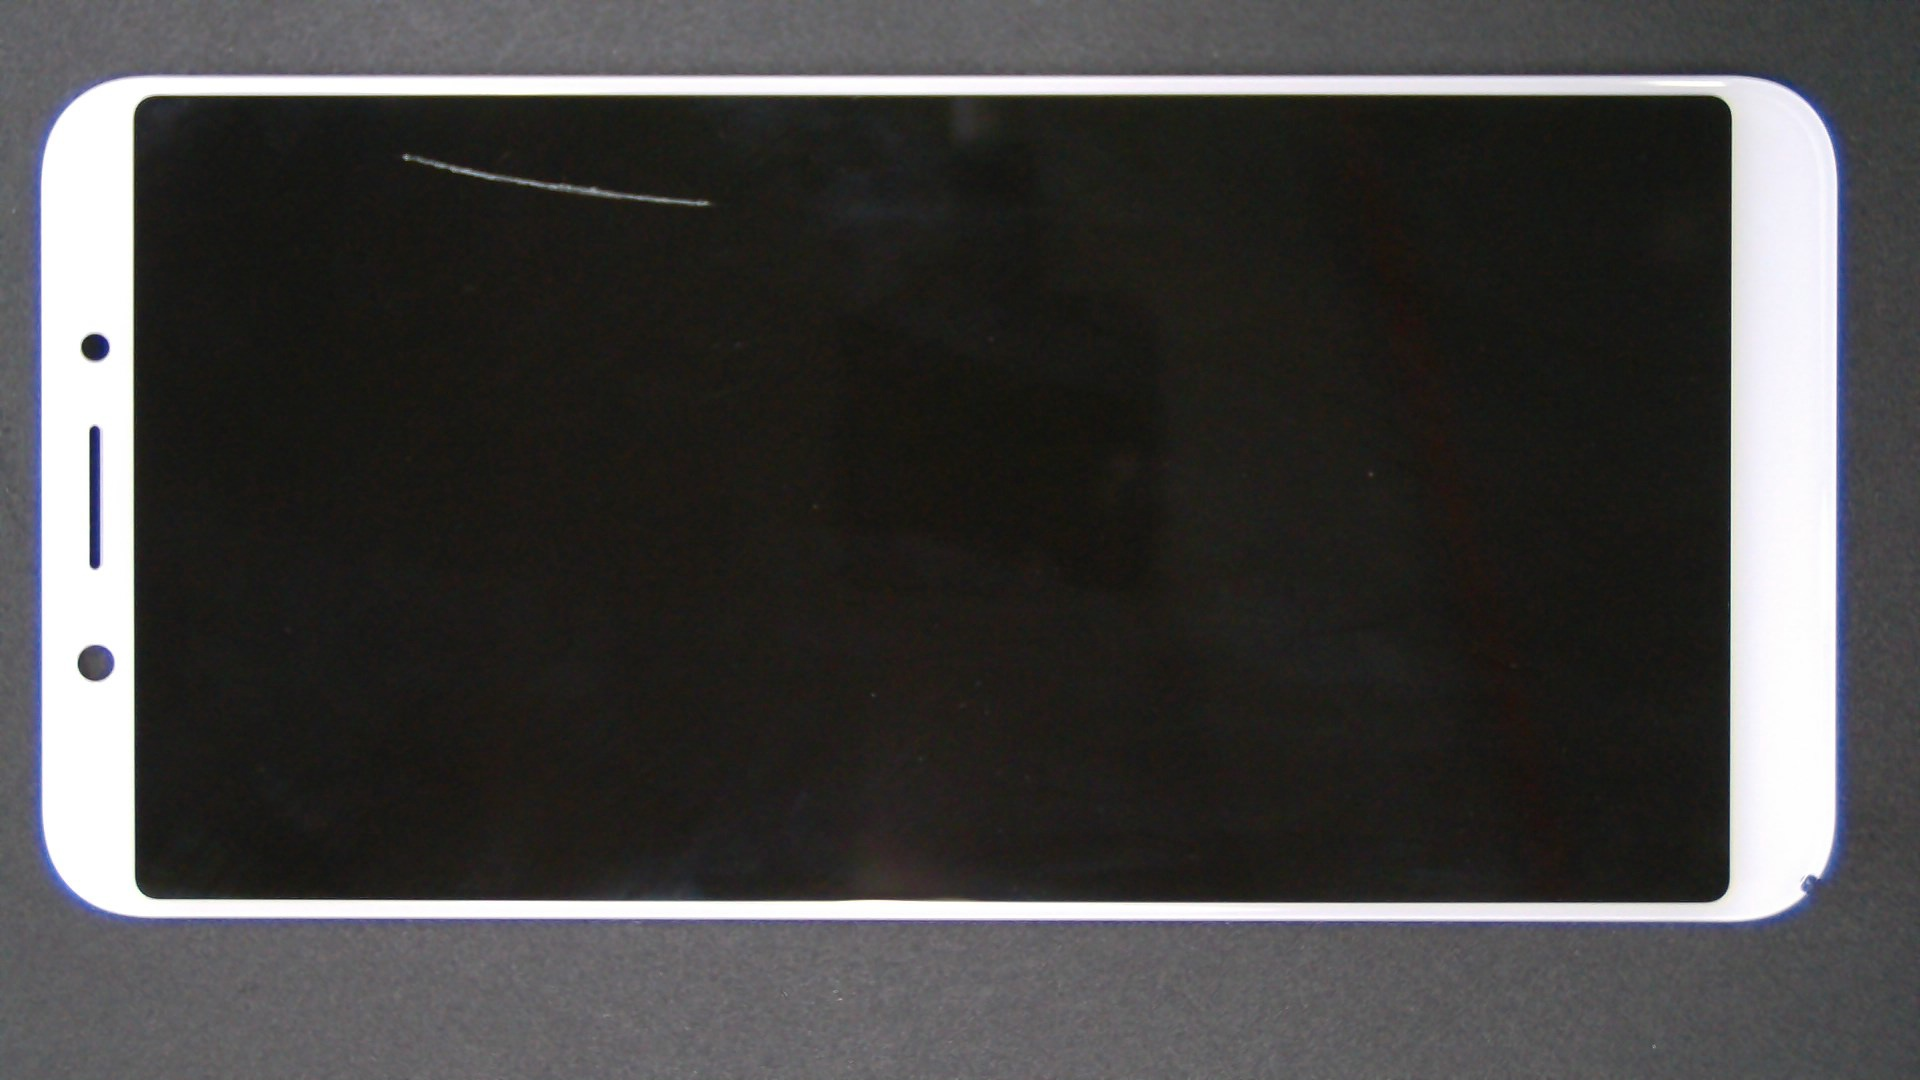oil: (202, 75, 604, 232)
